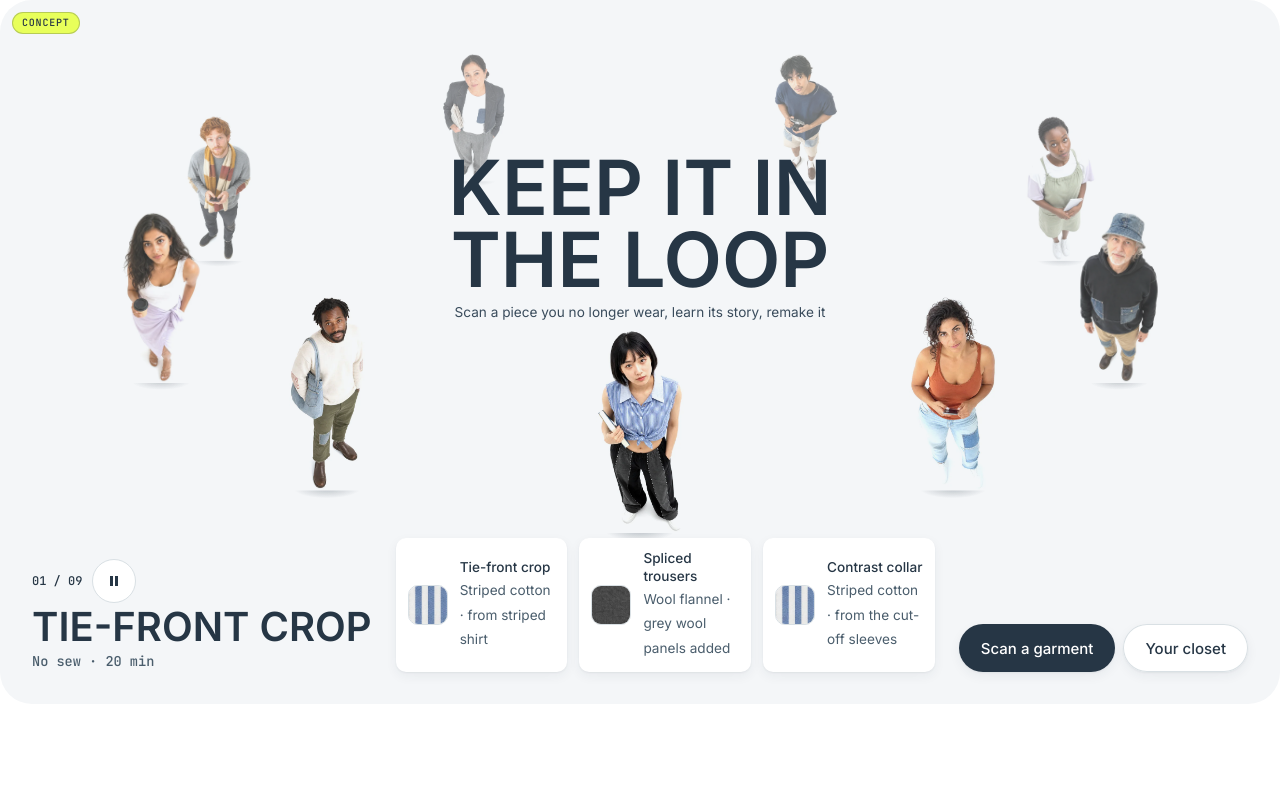
Test: HomeRing › previews on keyboard focus too
The image size is (1280, 800).
Focus the button named "Show Racer tank" at (953, 393), box [901,295,1004,490]
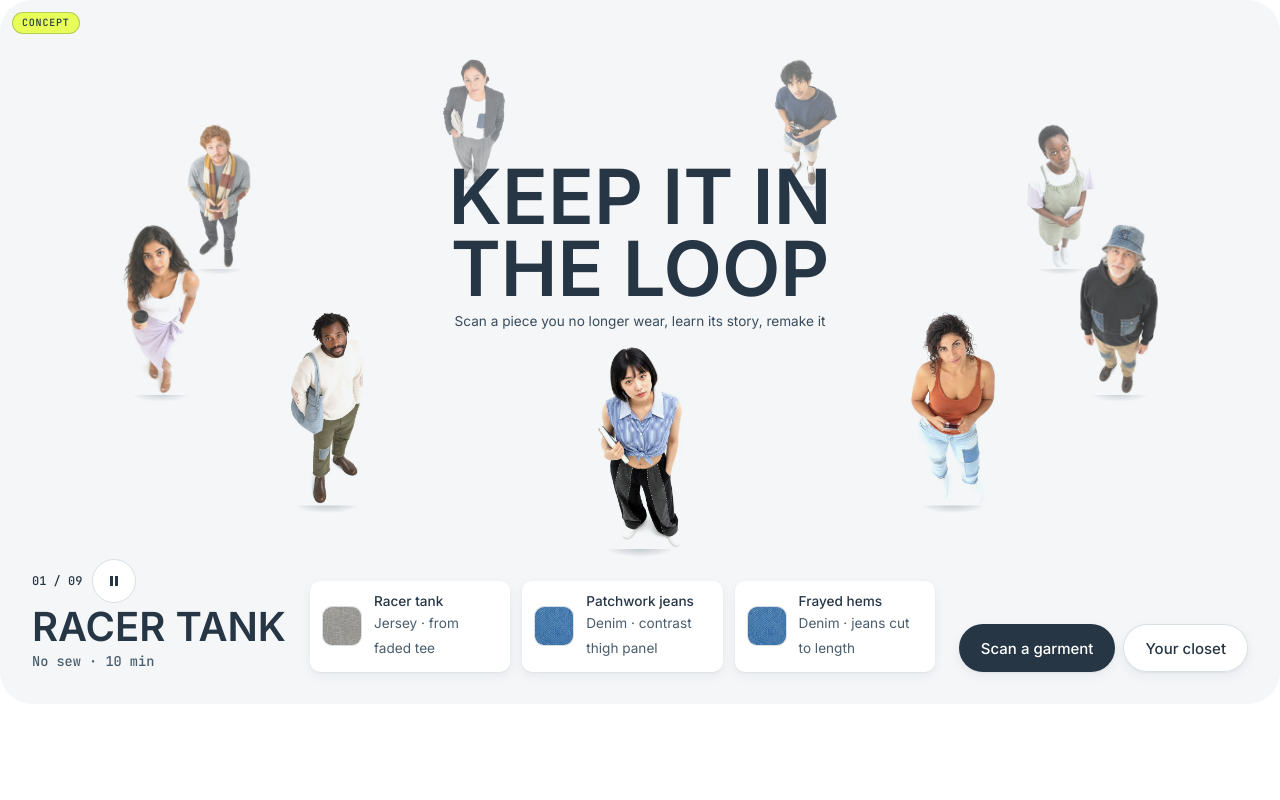
Result: the text "Patchwork jeans" is shown at [586,593,711,610]
Leave the button named "Show Racer tank", box [901,310,1004,505]
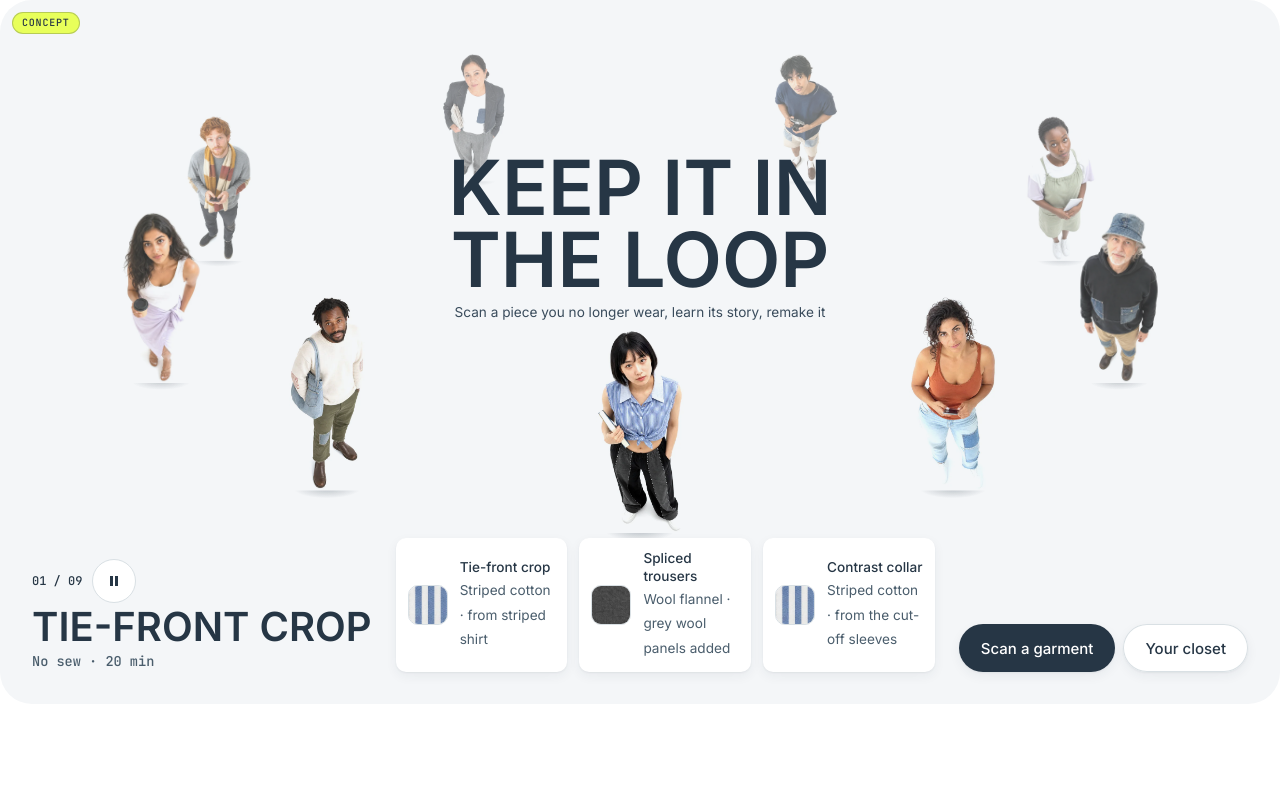
Result: the text "Patchwork jeans" is gone
